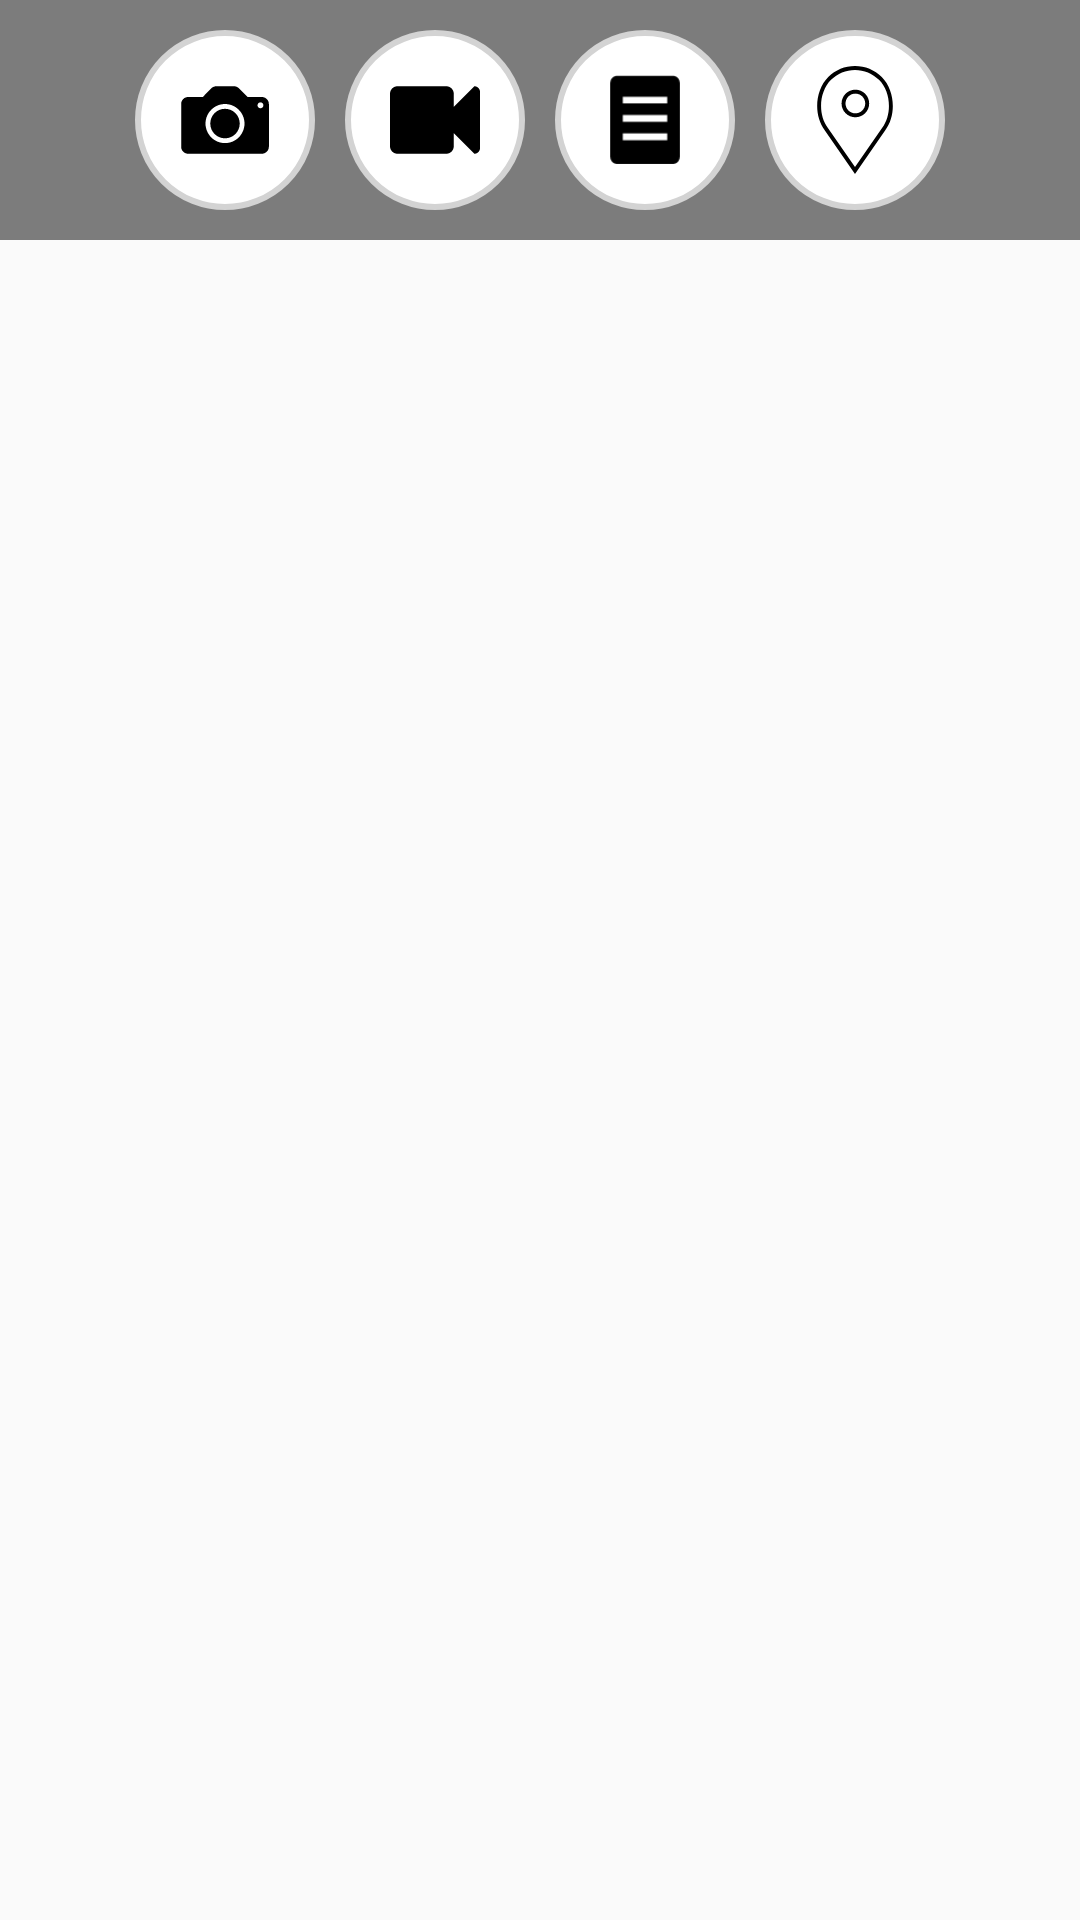

Where icons sit on this 1080 × 1920 app screen, as [left=x1, top=y1, right=x2, bottom=y2]:
camera: [left=135, top=30, right=315, bottom=210]
document: [left=555, top=30, right=735, bottom=210]
location: [left=765, top=30, right=945, bottom=210]
video: [left=345, top=30, right=525, bottom=210]
